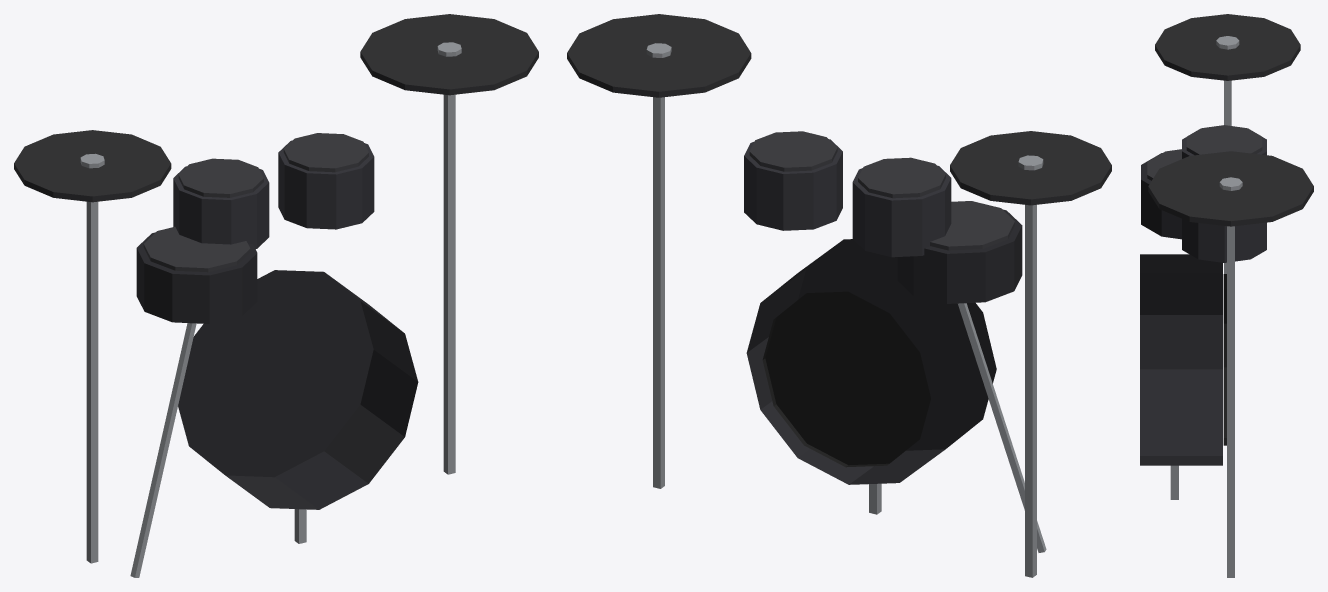
Rendered from lwf_drum_hardware_electronic_v1.glb.
3 renders of one model, left to right at view 1: azimuth 30°, elevation 25°; view 2: azimuth 150°, elevation 25°; view 3: azimuth 270°, elevation 25°, orthographic. The views are drawn at different scales.
Visible parts, largest first — view 1: LWF_Drummer_DrumShells, LWF_Drummer_CymbalsHardware; view 2: LWF_Drummer_DrumShells, LWF_Drummer_CymbalsHardware; view 3: LWF_Drummer_DrumShells, LWF_Drummer_CymbalsHardware.
Part boxes in pixels (<box>): LWF_Drummer_DrumShells: <box>136,133,418,543</box>; LWF_Drummer_CymbalsHardware: <box>14,14,538,577</box>; LWF_Drummer_DrumShells: <box>744,131,1022,514</box>; LWF_Drummer_CymbalsHardware: <box>567,14,1111,577</box>; LWF_Drummer_DrumShells: <box>1140,125,1266,499</box>; LWF_Drummer_CymbalsHardware: <box>1148,14,1313,577</box>.
Bounding box in the file's own units: 1.63 × 1.32 × 0.525.
1 material, 1 textured.
